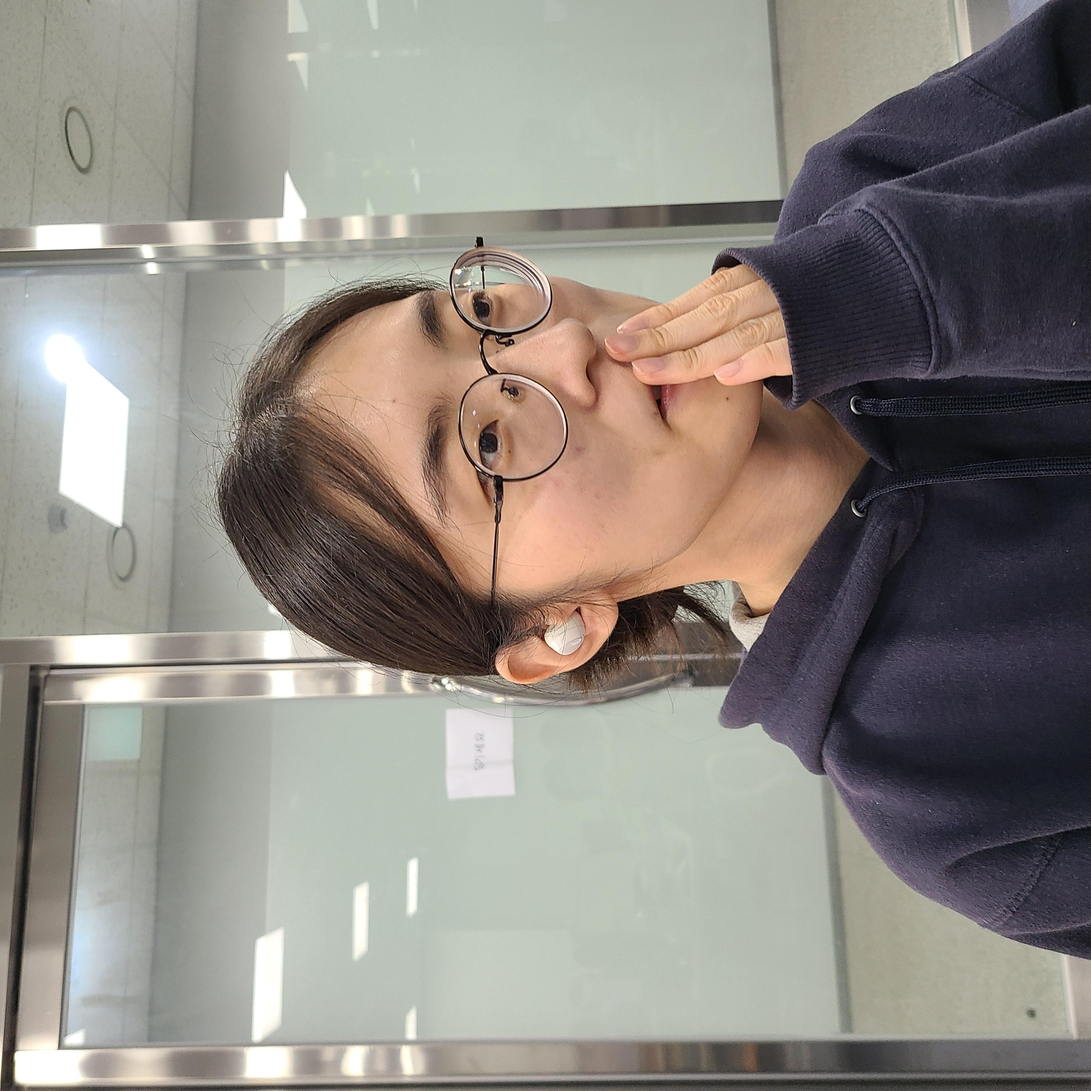earphone: (425, 534, 500, 601)
